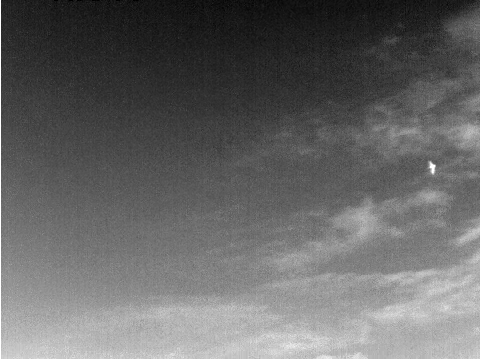dim target: (427, 157, 436, 176)
